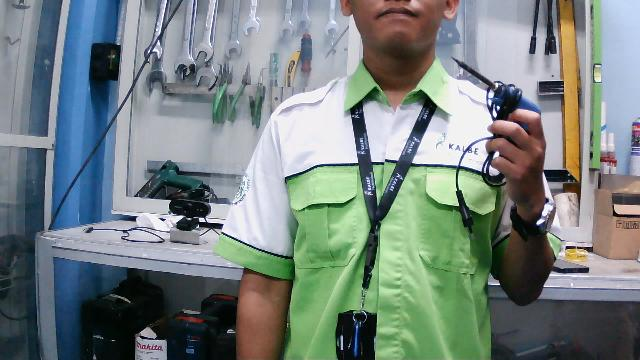solder_electrical: (448, 54, 545, 188)
